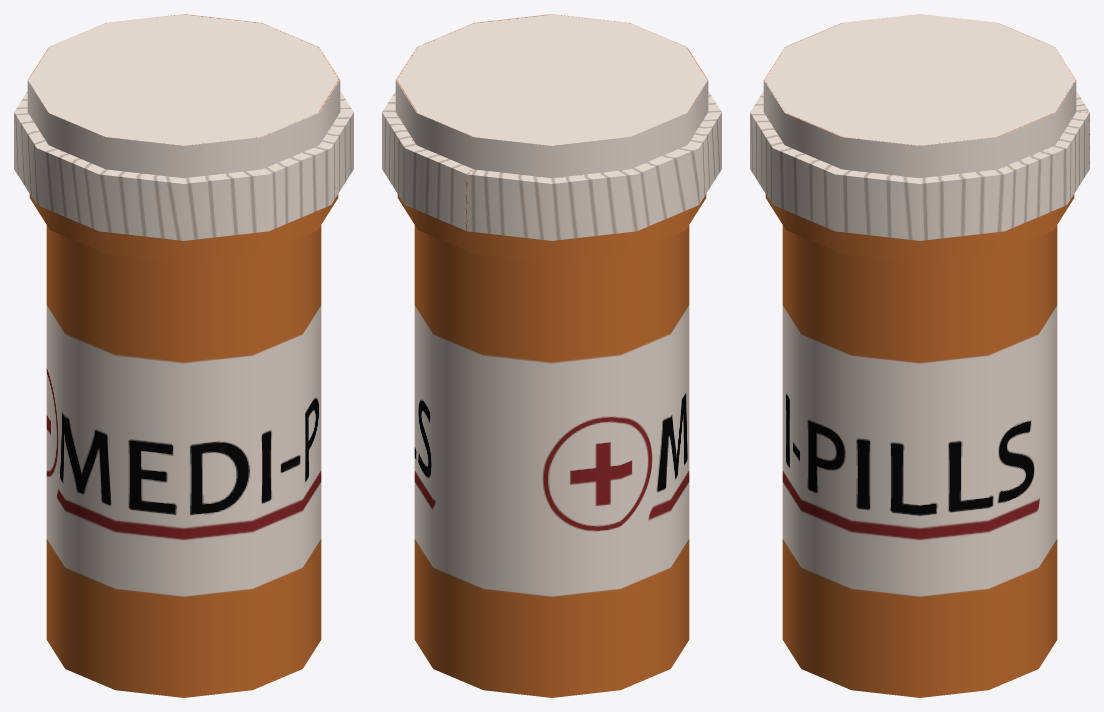
File: PillBottle_Q_UN_TEX.FBX
3 renders of one model, left to right at view 1: azimuth 30°, elevation 25°; view 2: azimuth 150°, elevation 25°; view 3: azimuth 270°, elevation 25°, orthographic.
Parts seen in each view (by area): view 1: PillBottle; view 2: PillBottle; view 3: PillBottle.
Boxes of the visible parts, box(x1,y1,x2,y2) form: PillBottle: box(14, 14, 353, 697); PillBottle: box(382, 14, 721, 697); PillBottle: box(750, 14, 1089, 697).
Size of the model in its own units: 8.43 by 15.32 by 8.43.
